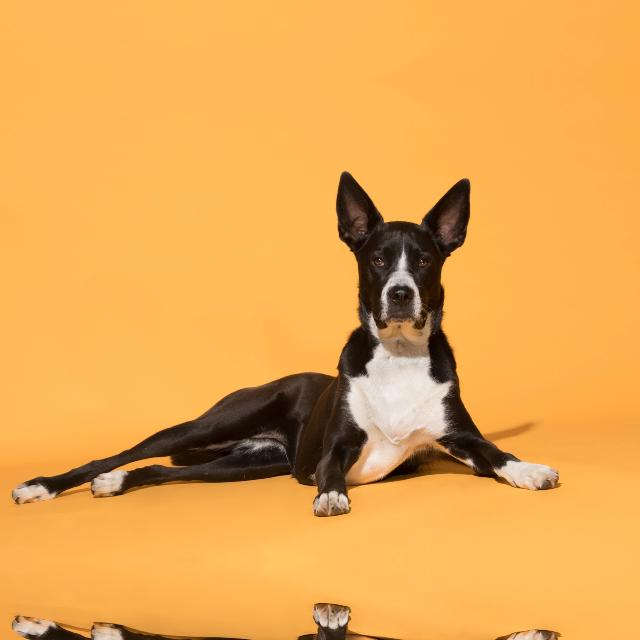dog: (62, 158, 554, 544), (62, 575, 553, 640), (62, 0, 553, 2)
